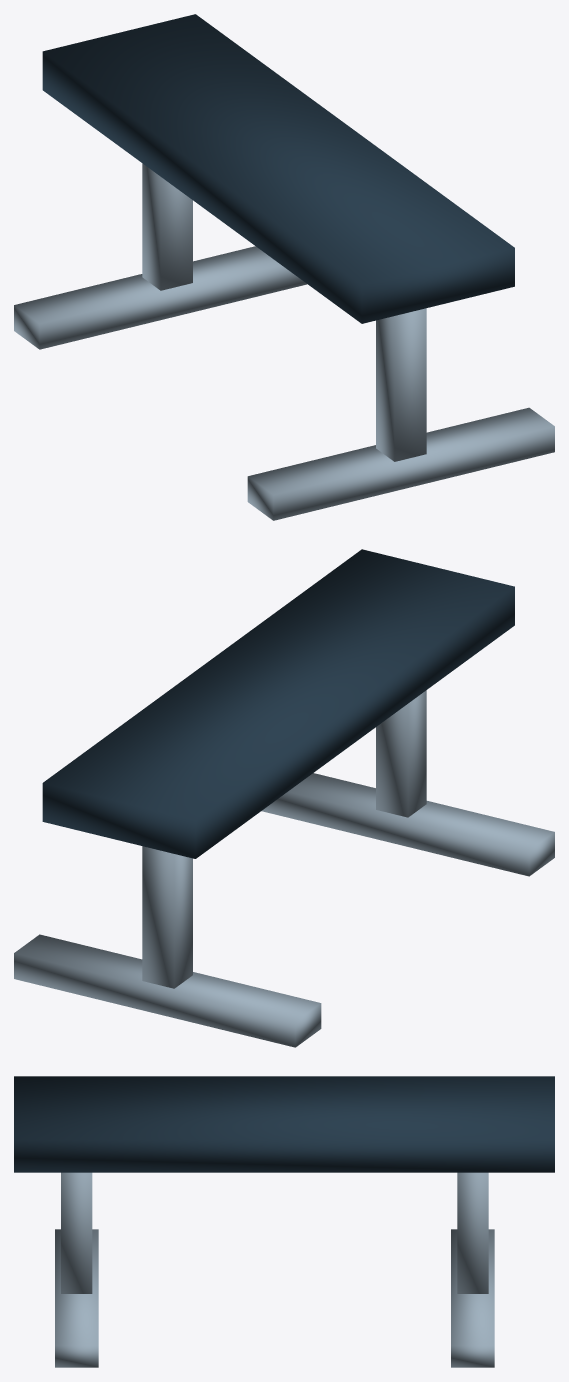
Rendered from bench_flat_a.glb.
The picture shows the model from 3 angles, top to bottom: view 1: azimuth 30°, elevation 25°; view 2: azimuth 150°, elevation 25°; view 3: azimuth 270°, elevation 25°; orthographic projection. The views are drawn at different scales.
Parts seen in each view (by area): view 1: pad, frame; view 2: pad, frame; view 3: pad, frame.
Boxes of the visible parts, bbox=[...] form: pad: bbox=[42, 14, 514, 323]; frame: bbox=[14, 163, 554, 520]; pad: bbox=[42, 549, 514, 858]; frame: bbox=[14, 690, 554, 1047]; pad: bbox=[14, 1076, 554, 1172]; frame: bbox=[55, 1172, 494, 1367].
Size of the model in its own units: 0.57 by 0.46 by 1.12.
